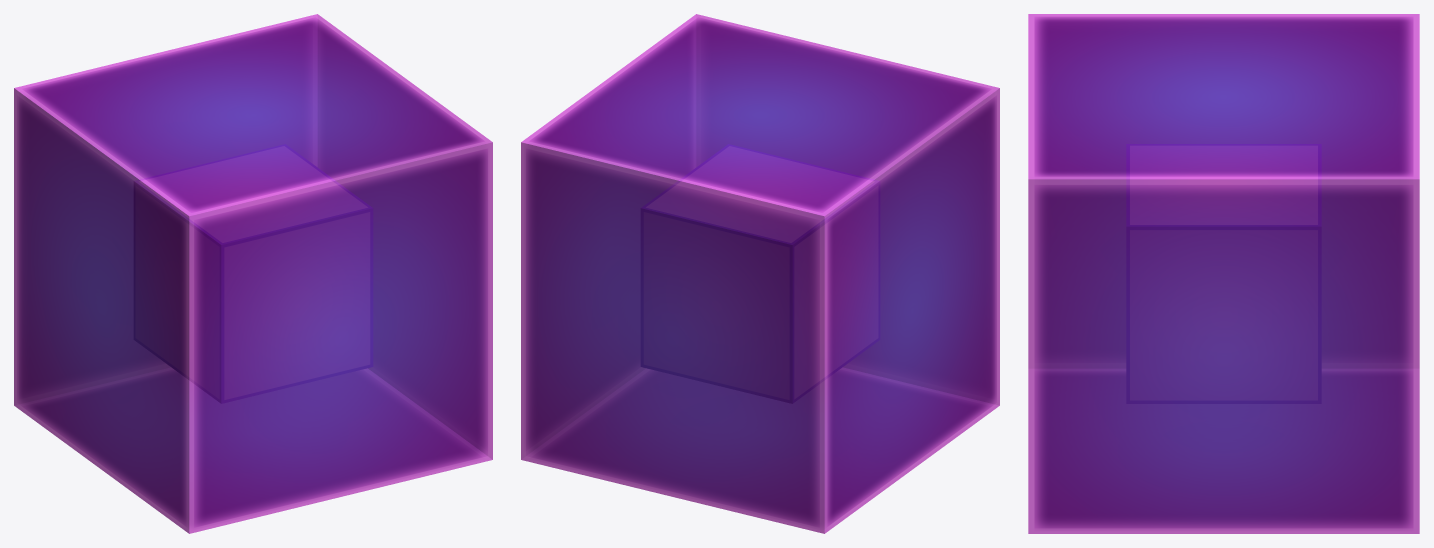
The picture shows the model from 3 angles, left to right: view 1: azimuth 30°, elevation 25°; view 2: azimuth 150°, elevation 25°; view 3: azimuth 270°, elevation 25°; orthographic projection. The views are drawn at different scales.
Visible parts, largest first — view 1: it_cube; view 2: it_cube; view 3: it_cube.
Boxes of the visible parts, box(x1,y1,x2,y2) form: it_cube: box(14, 14, 492, 533); it_cube: box(521, 14, 999, 533); it_cube: box(1028, 14, 1419, 533).
Size of the model in its own units: 10 by 10 by 10.
